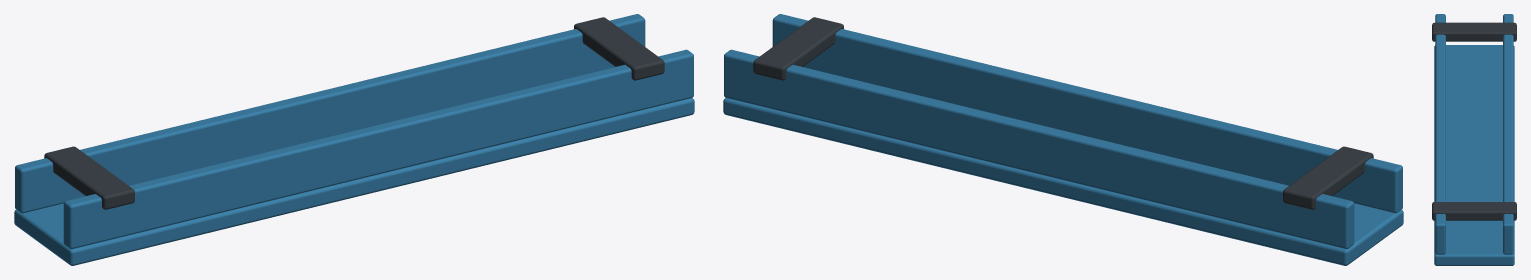
Rendered from curling-club-and-ice-maintenance-blade-transport-guard-317b7f40__31289.glb.
3 views of the same model, side by side, from view 1: azimuth 30°, elevation 25°; view 2: azimuth 150°, elevation 25°; view 3: azimuth 270°, elevation 25° (orthographic). The views are drawn at different scales.
Visible parts, largest first — view 1: blade-transport-guard; view 2: blade-transport-guard; view 3: blade-transport-guard.
Boxes of the visible parts, <box> form: blade-transport-guard: <box>14,14,694,265</box>; blade-transport-guard: <box>723,14,1403,265</box>; blade-transport-guard: <box>1432,14,1516,265</box>.
Bounding box in the file's own units: 1.18 × 0.115 × 0.1999.
